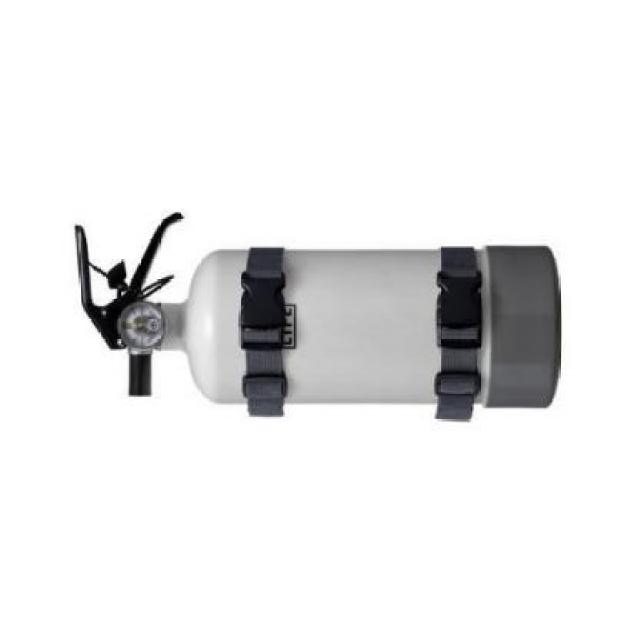fire extinguisher: (75, 211, 561, 417)
